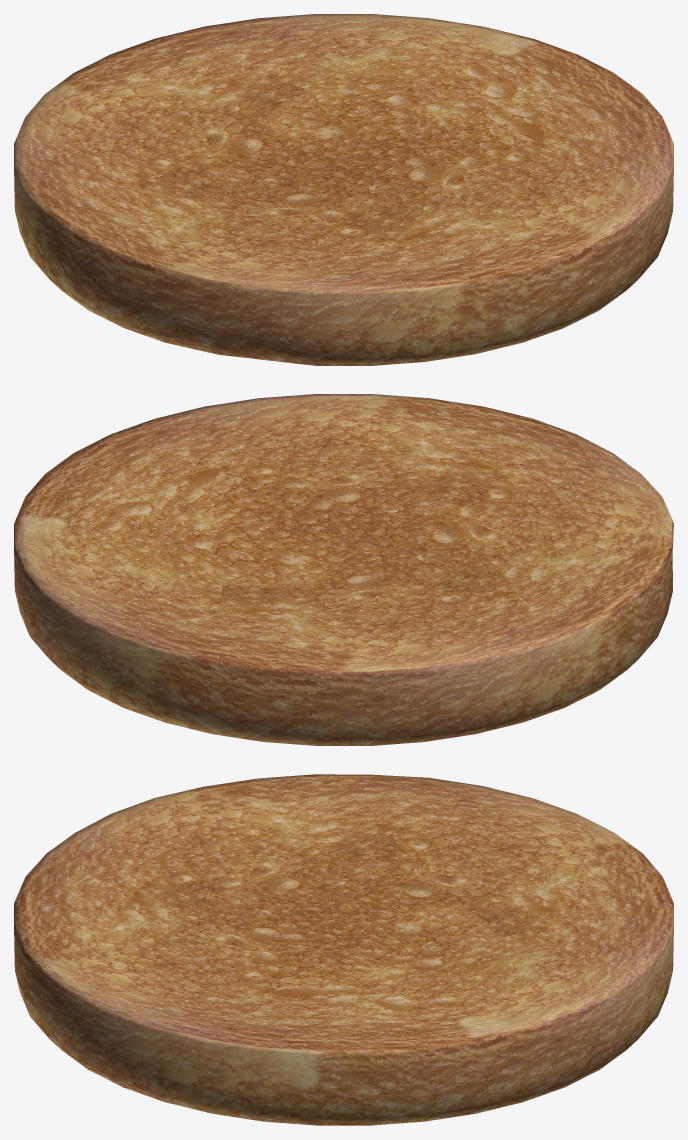
The model's file is pan down.fbx.
The picture shows the model from 3 angles, top to bottom: view 1: azimuth 30°, elevation 25°; view 2: azimuth 150°, elevation 25°; view 3: azimuth 270°, elevation 25°; orthographic projection.
Parts seen in each view (by area): view 1: pan down; view 2: pan down; view 3: pan down.
Boxes of the visible parts, left/top/right/bottom form: pan down: left=14, top=14, right=673, bottom=365; pan down: left=14, top=394, right=673, bottom=745; pan down: left=14, top=774, right=673, bottom=1125.
Bounding box in the file's own units: 2.55 × 0.3926 × 2.55.
